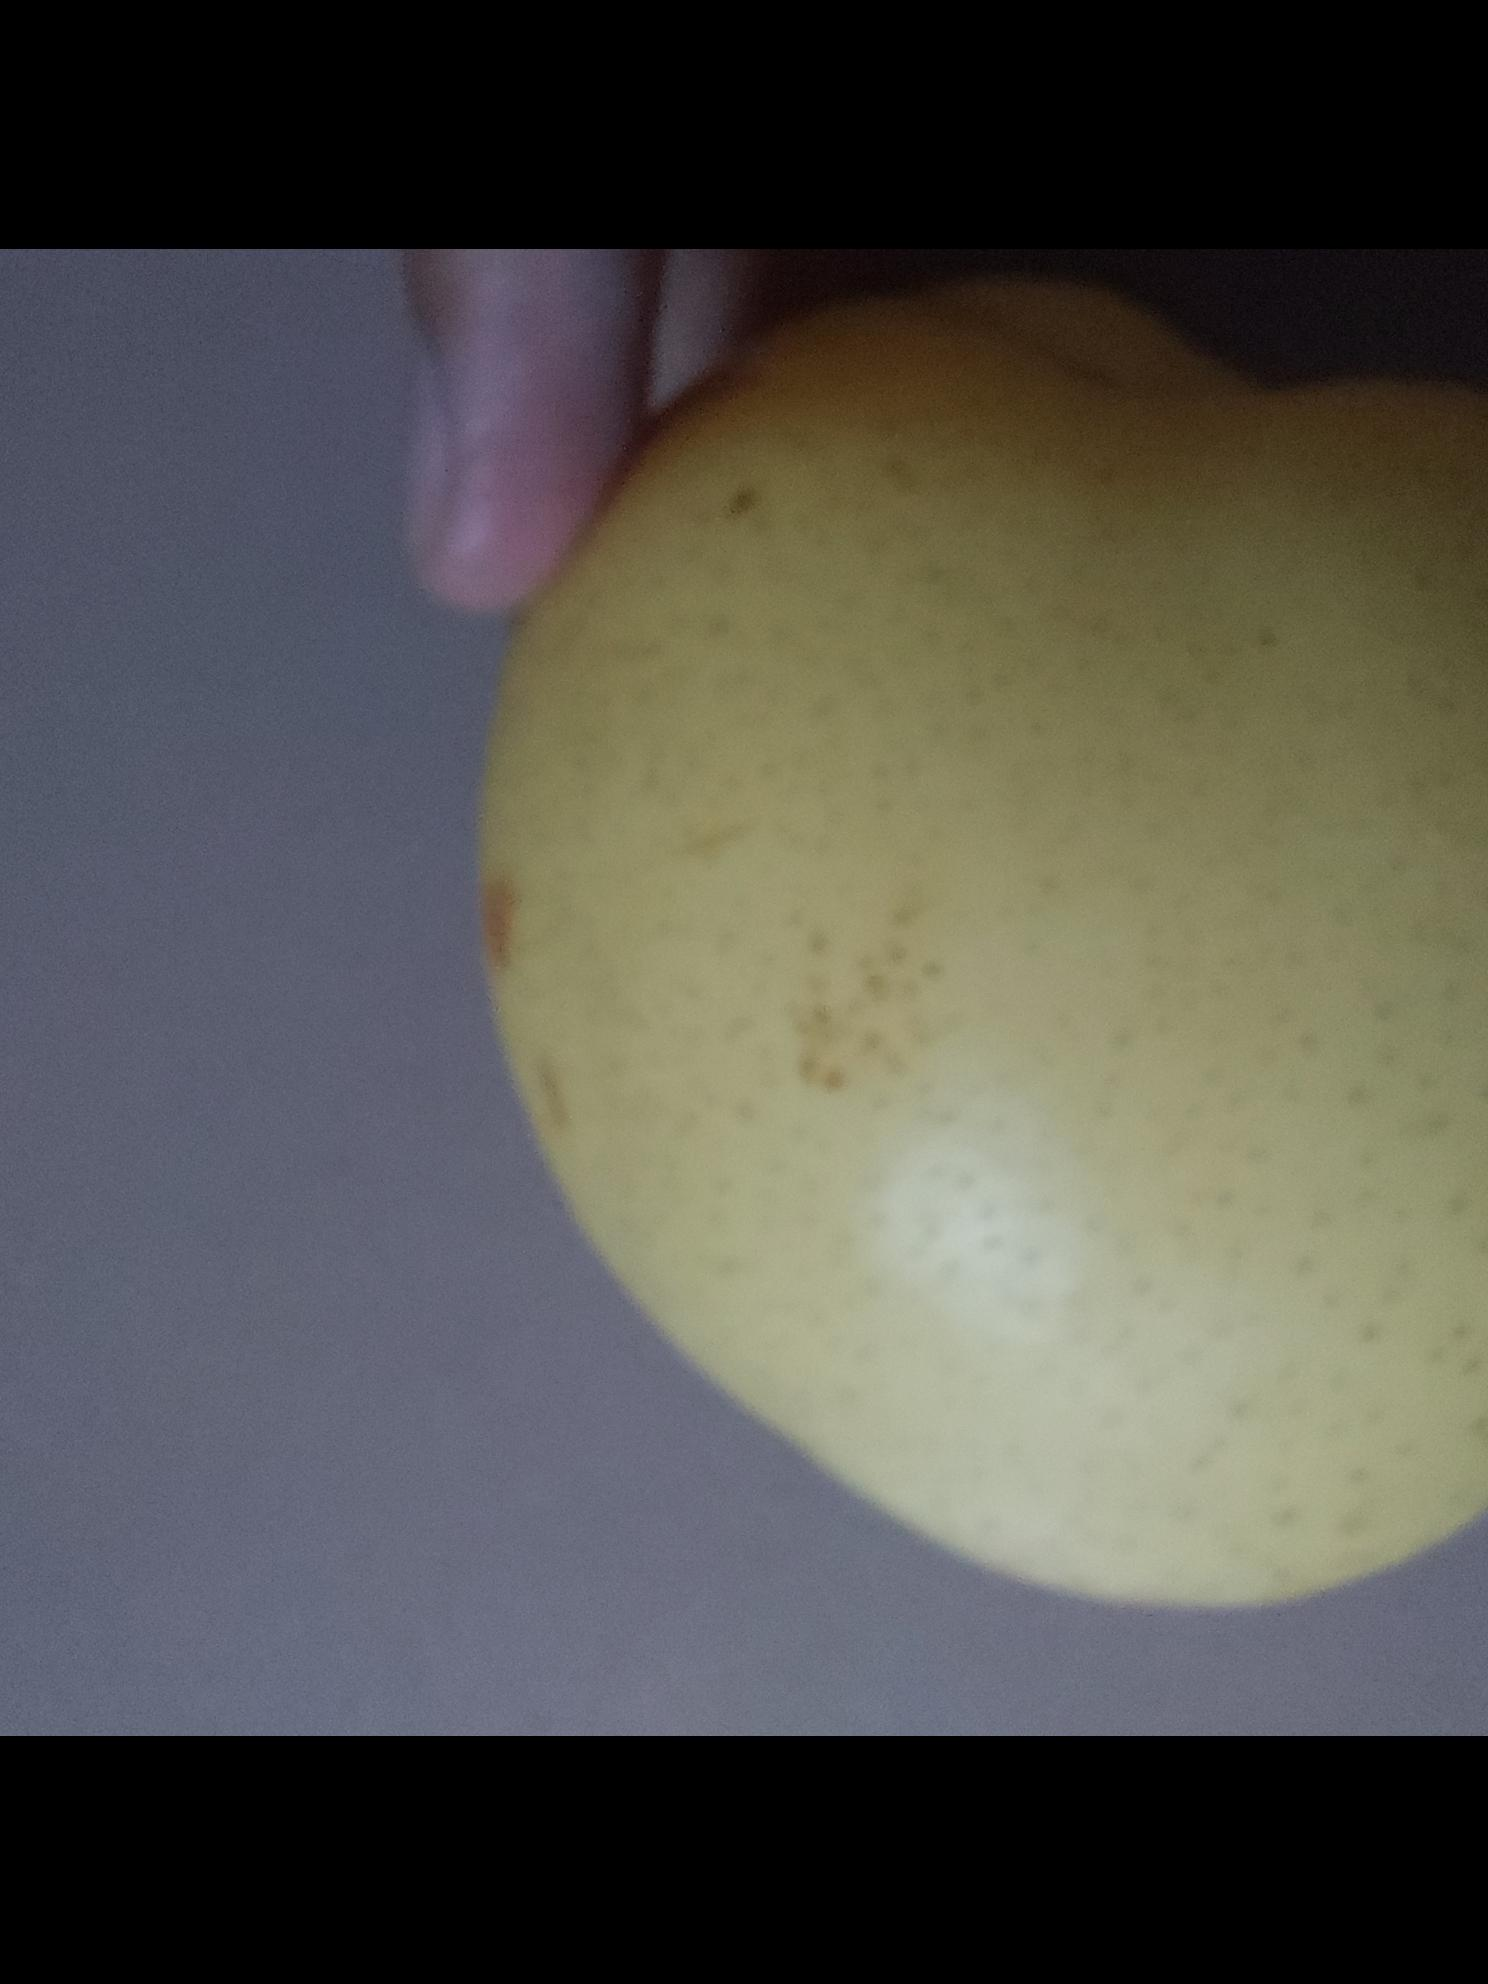Good Pear: (467, 258, 1488, 1624)
